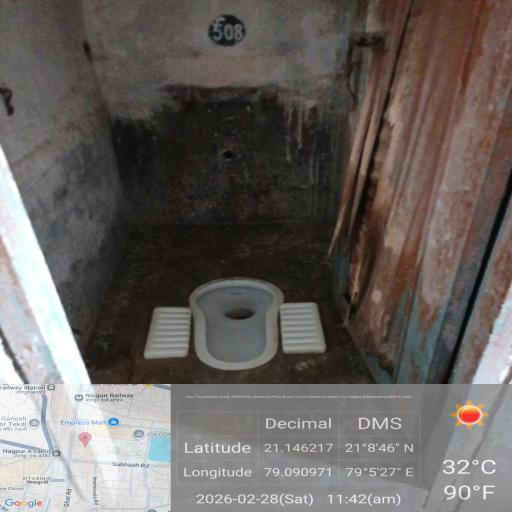dirty_floor: (28, 169, 448, 482), (53, 19, 439, 249)
partial_dirty_indian: (144, 284, 342, 377)
